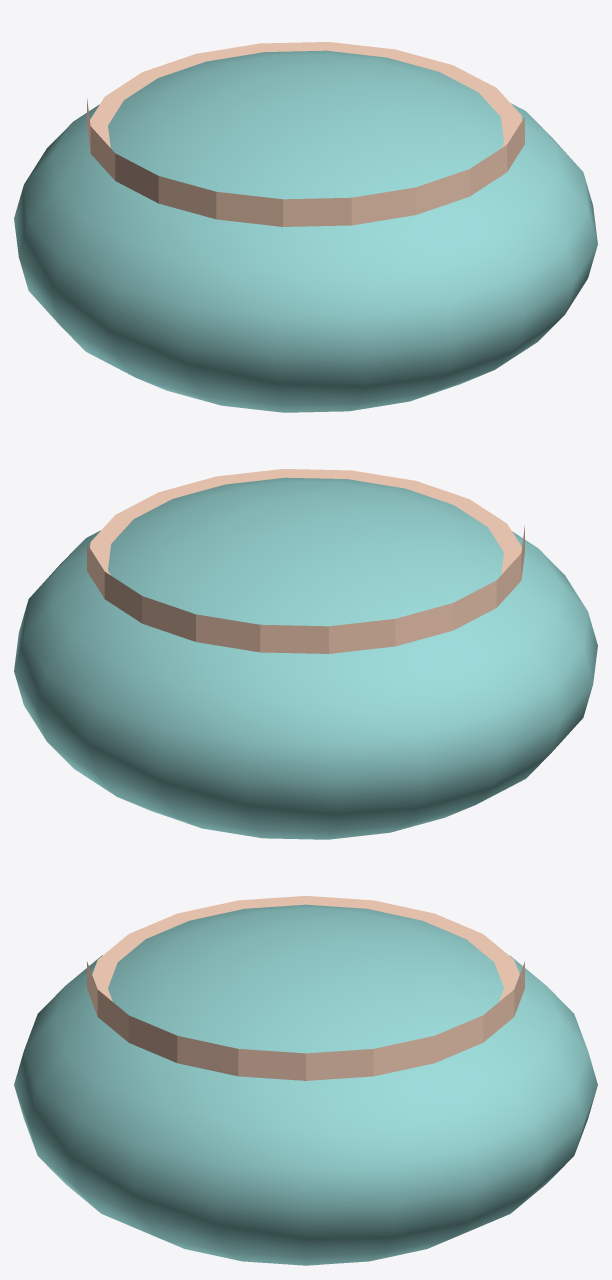
File: bowl.glb
The picture shows the model from 3 angles, top to bottom: view 1: azimuth 30°, elevation 25°; view 2: azimuth 150°, elevation 25°; view 3: azimuth 270°, elevation 25°; orthographic projection.
Visible parts, largest first — view 1: bowl, meal; view 2: bowl, meal; view 3: bowl, meal.
Part boxes in pixels (box(x1,y1,x2,y2)): bowl: box(14, 50, 597, 412); meal: box(87, 42, 524, 226); bowl: box(14, 477, 597, 839); meal: box(87, 469, 524, 653); bowl: box(14, 904, 597, 1265); meal: box(87, 896, 524, 1080).
Size of the model in its own units: 0.48 by 0.24 by 0.48.
